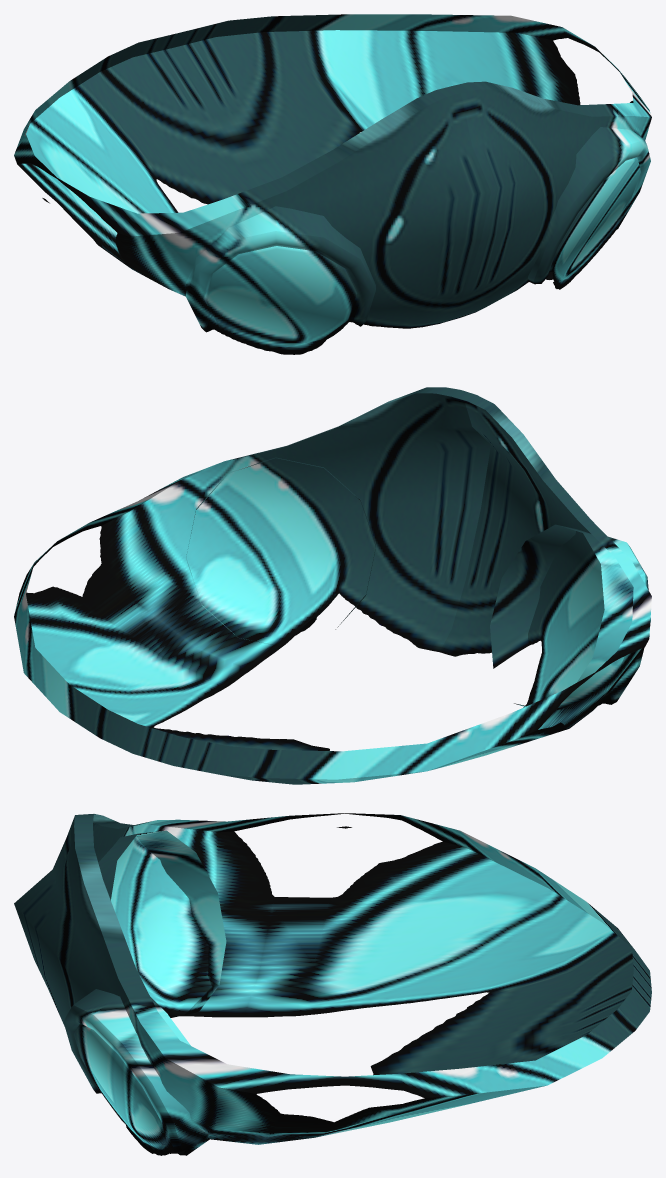
File: 11_003_Mask_Ayumi-Mask.glb
The picture shows the model from 3 angles, top to bottom: view 1: azimuth 30°, elevation 25°; view 2: azimuth 150°, elevation 25°; view 3: azimuth 270°, elevation 25°; orthographic projection.
Parts seen in each view (by area): view 1: 11_003_Mask_Ayumi-Mask; view 2: 11_003_Mask_Ayumi-Mask; view 3: 11_003_Mask_Ayumi-Mask.
Boxes of the visible parts, x1,y1,x2,y2 form: 11_003_Mask_Ayumi-Mask: (14, 14, 651, 354); 11_003_Mask_Ayumi-Mask: (14, 387, 651, 784); 11_003_Mask_Ayumi-Mask: (14, 813, 651, 1155).
Bounding box in the file's own units: 0.2339 × 0.1052 × 0.229.
Materials: 1 (1 with a texture image).
